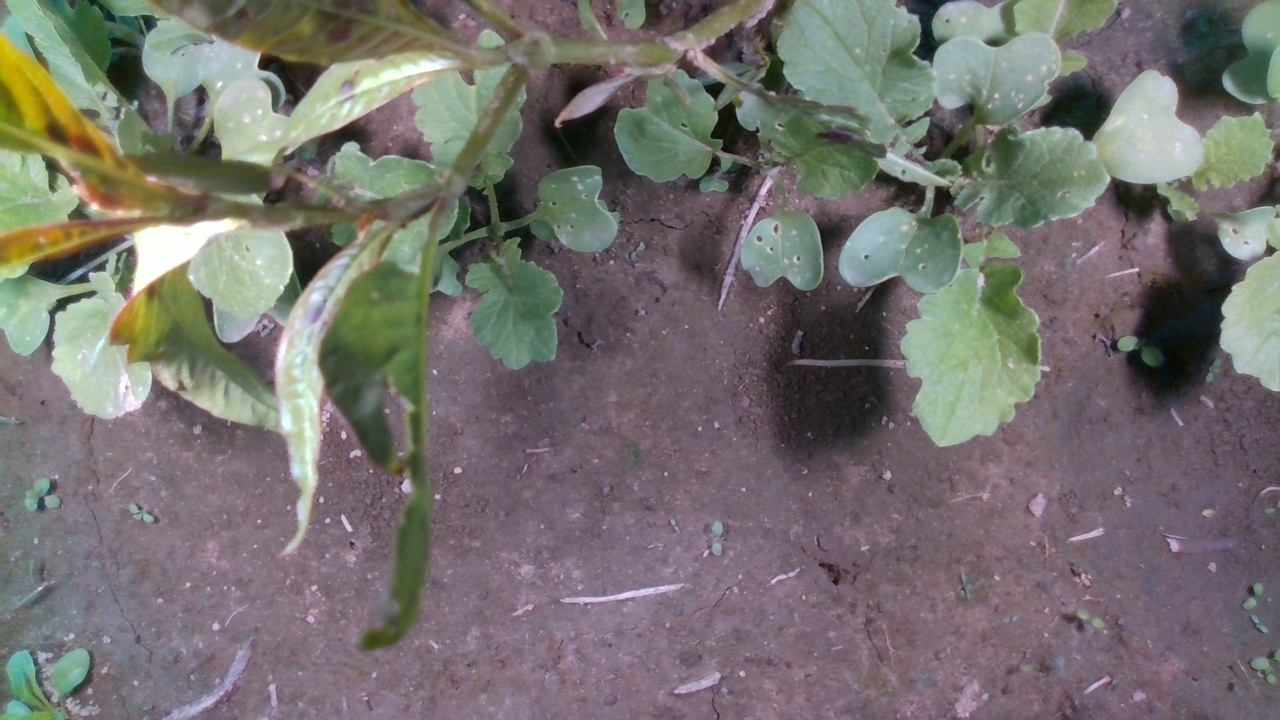weed: (1115, 333, 1164, 367), (22, 477, 62, 511), (1073, 607, 1105, 630), (1240, 582, 1265, 611), (127, 501, 156, 525), (1204, 355, 1223, 384), (709, 519, 723, 556), (957, 569, 973, 600), (1248, 612, 1268, 636)
